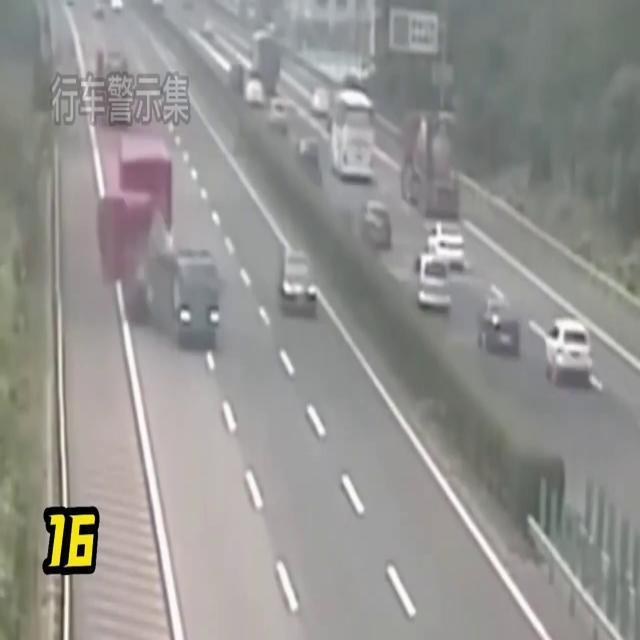accident: (96, 130, 222, 354)
non-accident: (476, 294, 594, 392), (310, 84, 376, 184), (414, 220, 468, 312), (244, 29, 282, 109)
